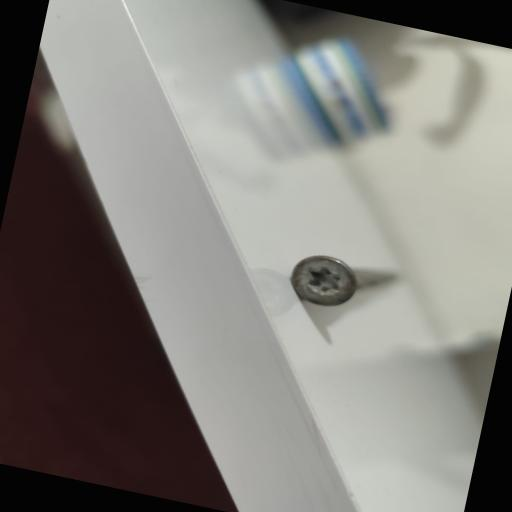Torx: (284, 247, 365, 313)
